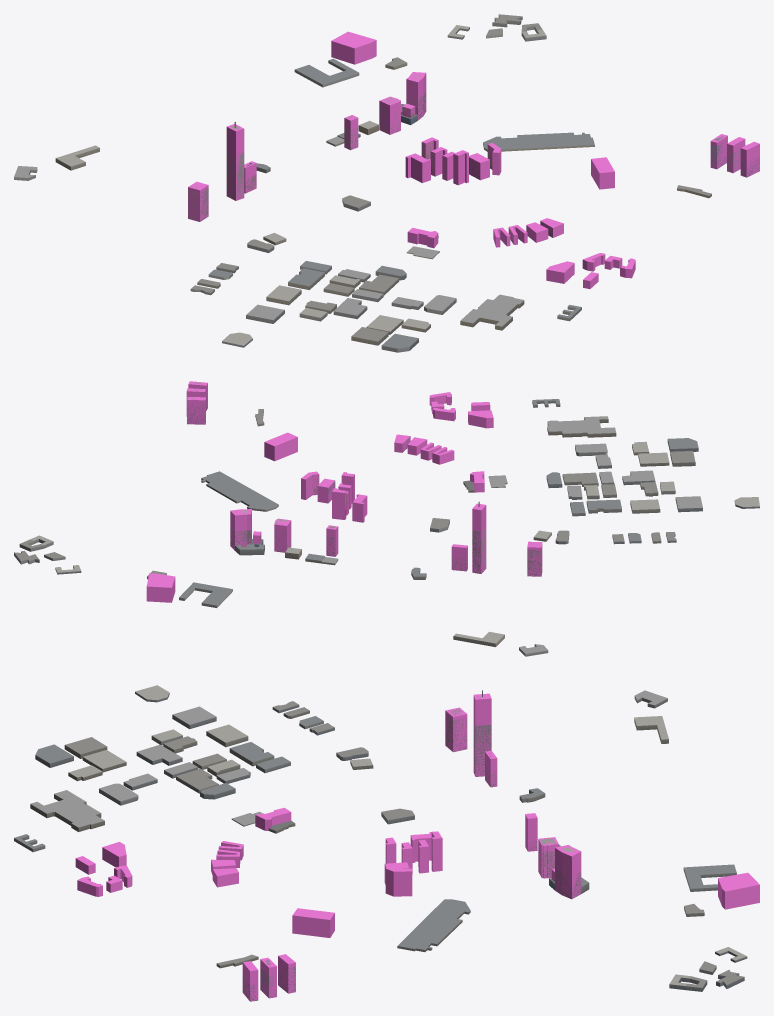
File: bld_8_0.fbx
The picture shows the model from 3 angles, top to bottom: view 1: azimuth 30°, elevation 25°; view 2: azimuth 150°, elevation 25°; view 3: azimuth 270°, elevation 25°; orthographic projection. The views are drawn at different scales.
Parts seen in each view (by area): view 1: bld_8_0_LOD0, bld_8_0_COL; view 2: bld_8_0_LOD0, bld_8_0_COL; view 3: bld_8_0_LOD0, bld_8_0_COL.
Part boxes in pixels (x1,y1,x2,y2): bld_8_0_LOD0: [14, 14, 759, 352]; bld_8_0_COL: [188, 31, 759, 288]; bld_8_0_LOD0: [14, 382, 759, 656]; bld_8_0_COL: [146, 381, 542, 602]; bld_8_0_LOD0: [14, 685, 747, 1001]; bld_8_0_COL: [75, 693, 759, 1001].
Size of what is drawn, in the model's own units: 2012 by 249 by 2018.
